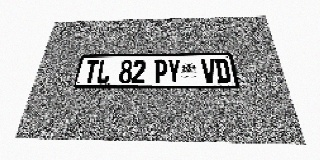2: (132, 60, 146, 83)
8: (118, 60, 133, 83)
D: (214, 59, 231, 83)
L: (96, 60, 112, 83)
P: (154, 59, 167, 83)
T: (83, 60, 99, 83)
V: (201, 59, 217, 83)
Y: (168, 59, 181, 83)
